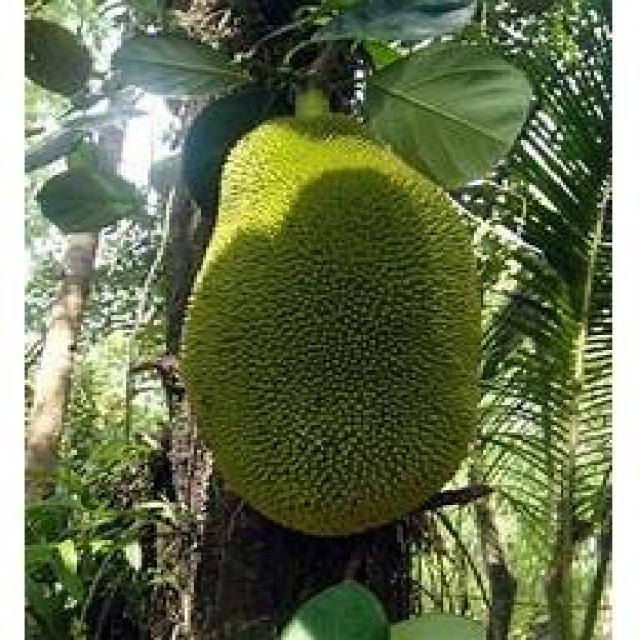Fruit: (138, 110, 511, 565)
